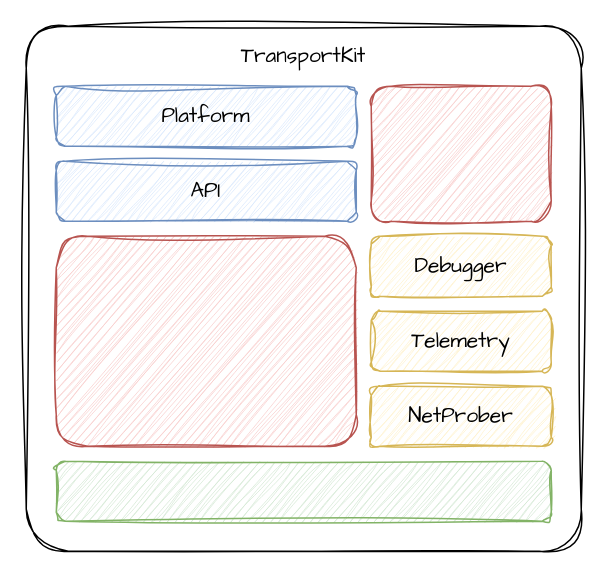
This 608x578 diagram has some shape labels left out. The centre of each missing label's shape, as x and y in pixels:
"LocalServer" belongs at pixel 460 153.
"TransportCore" belongs at pixel 205 340.
"TX Runtime" belongs at pixel 303 490.
